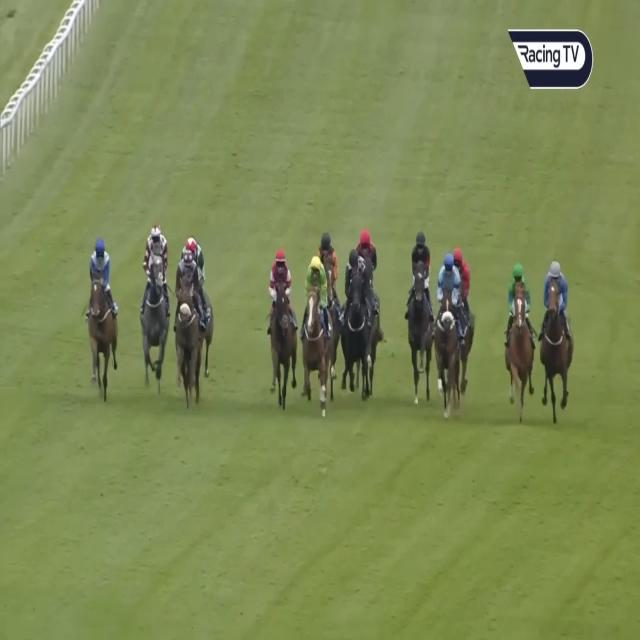horses-racing: (540, 258, 582, 424), (84, 235, 120, 384), (267, 243, 298, 396), (435, 254, 464, 416), (342, 251, 372, 396), (406, 229, 435, 378), (173, 256, 203, 397), (141, 224, 168, 379), (302, 259, 330, 397), (507, 257, 530, 406), (450, 245, 477, 336), (317, 228, 342, 316), (185, 230, 215, 303), (359, 228, 381, 278)
